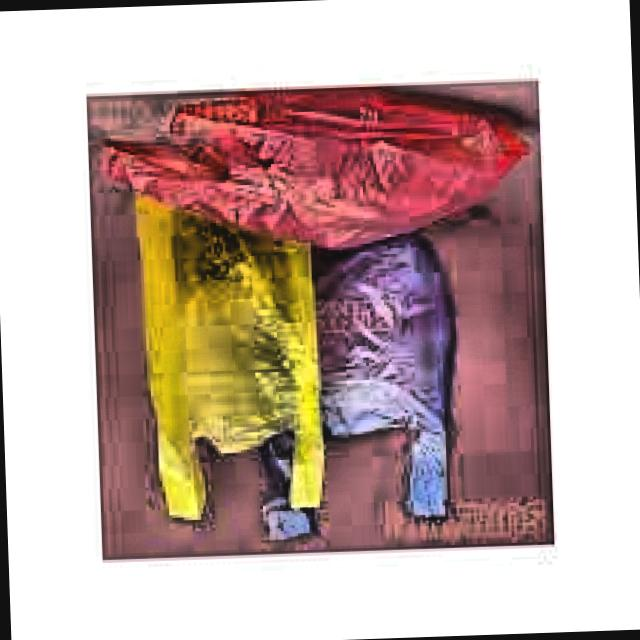plastic bag: (91, 88, 529, 538)
